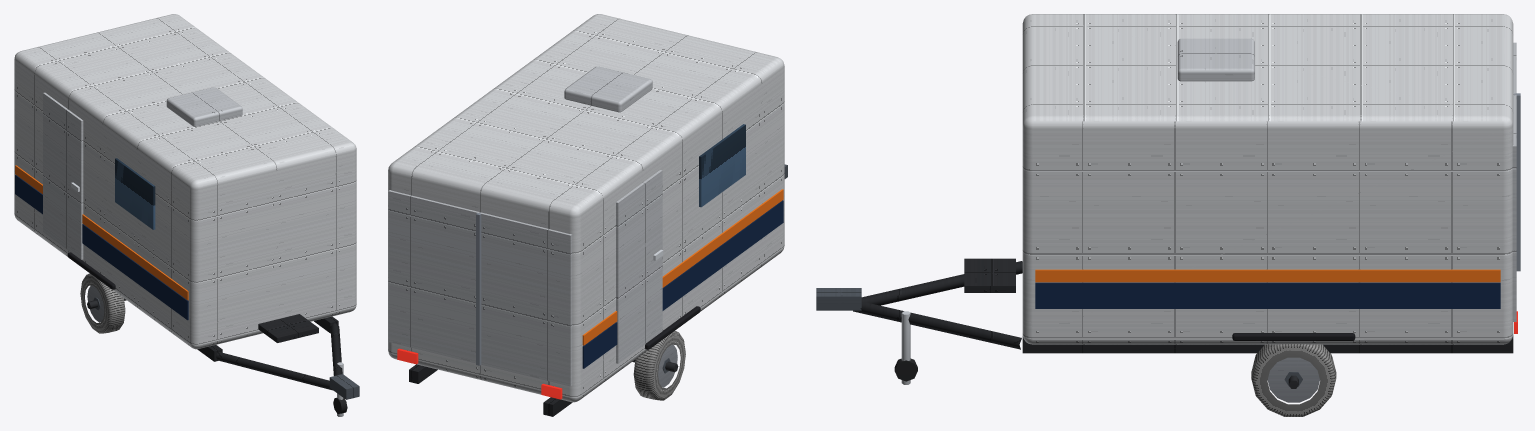
The model's file is trailer_de_apoio.glb.
The picture shows the model from 3 angles, left to right: view 1: azimuth 30°, elevation 25°; view 2: azimuth 150°, elevation 25°; view 3: azimuth 270°, elevation 25°; orthographic projection. The views are drawn at different scales.
Visible parts, largest first — view 1: trailer_de_apoio_metal, trailer_de_apoio; view 2: trailer_de_apoio_metal, trailer_de_apoio; view 3: trailer_de_apoio_metal, trailer_de_apoio.
Part boxes in pixels (x1,y1,x2,y2): trailer_de_apoio_metal: (14, 14, 359, 399); trailer_de_apoio: (15, 158, 347, 416); trailer_de_apoio_metal: (388, 14, 787, 416); trailer_de_apoio: (397, 124, 783, 400); trailer_de_apoio_metal: (816, 14, 1516, 402); trailer_de_apoio: (894, 93, 1520, 416).
Size of the model in its own units: 2.1 by 2.7 by 5.45.
5 materials, 3 textured.
